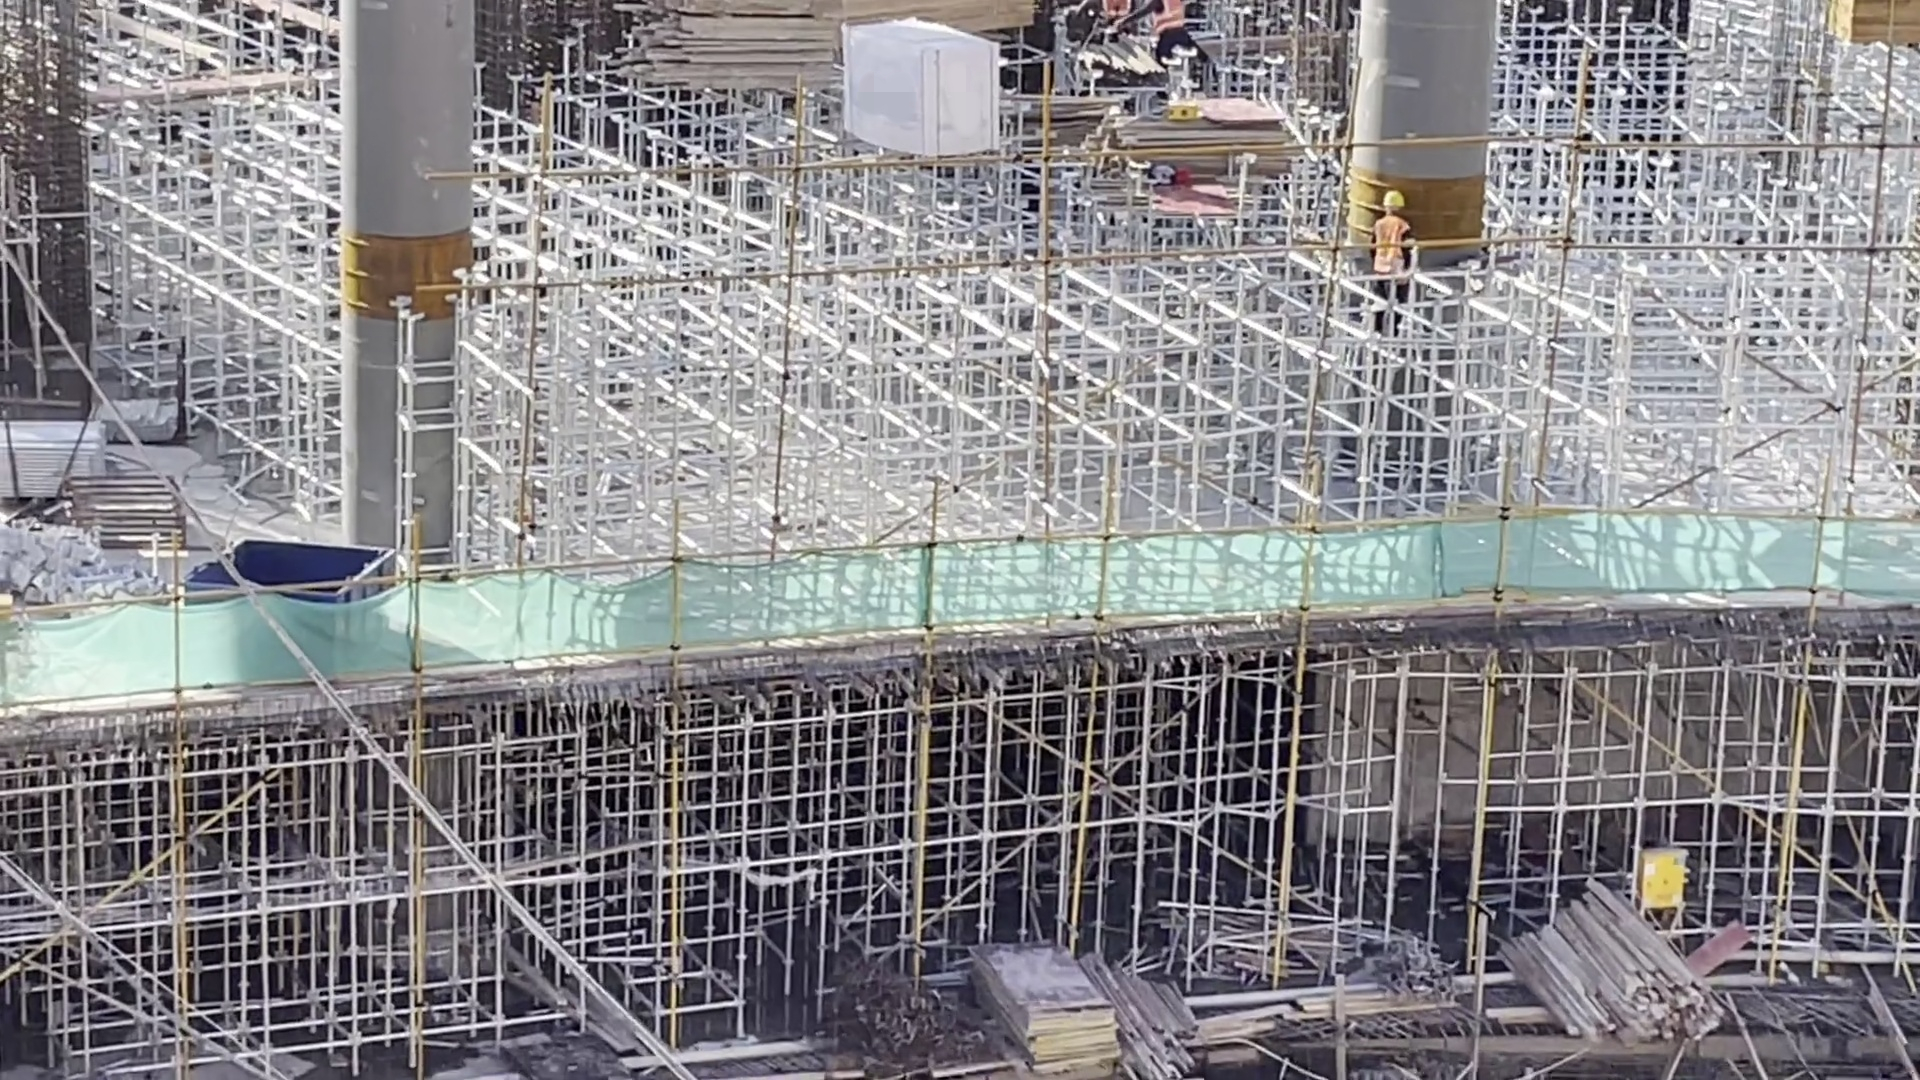board: (978, 933, 1123, 1080), (1095, 92, 1288, 193)
ebox: (1631, 842, 1686, 919)
helmet: (1385, 189, 1406, 204)
hopper: (187, 536, 399, 610)
person: (1120, 1, 1222, 63), (1369, 189, 1415, 302)
vest: (1374, 219, 1406, 271), (1151, 1, 1190, 33)
wood: (1515, 875, 1720, 1036), (612, 1, 845, 91), (1829, 1, 1920, 60)
